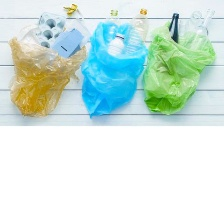book: (48, 23, 83, 65)
bottle: (184, 7, 221, 54), (121, 5, 155, 54), (101, 5, 122, 41), (166, 8, 183, 40), (106, 30, 124, 59), (187, 8, 202, 27)
plastic_bag: (0, 28, 95, 125), (76, 16, 153, 119), (140, 20, 215, 116)
